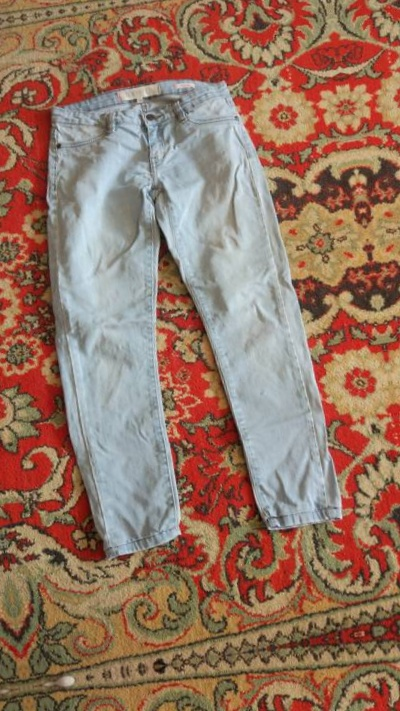Pants: (0, 32, 358, 597), (391, 0, 400, 528)
